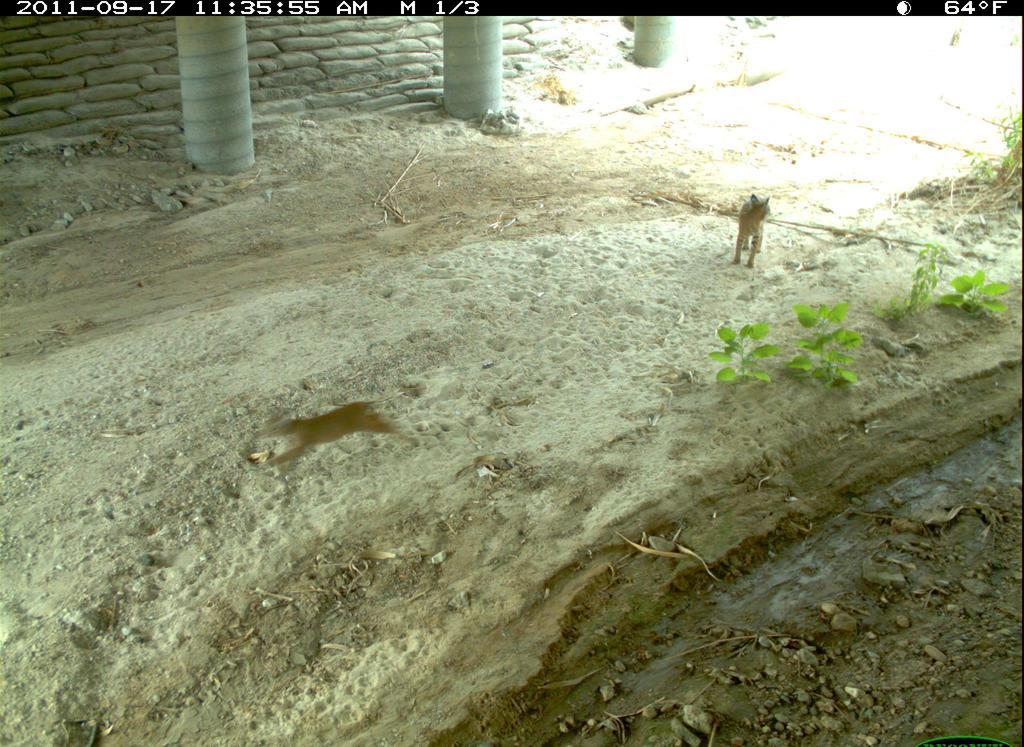bobcat: (259, 396, 418, 487), (727, 189, 781, 273)
